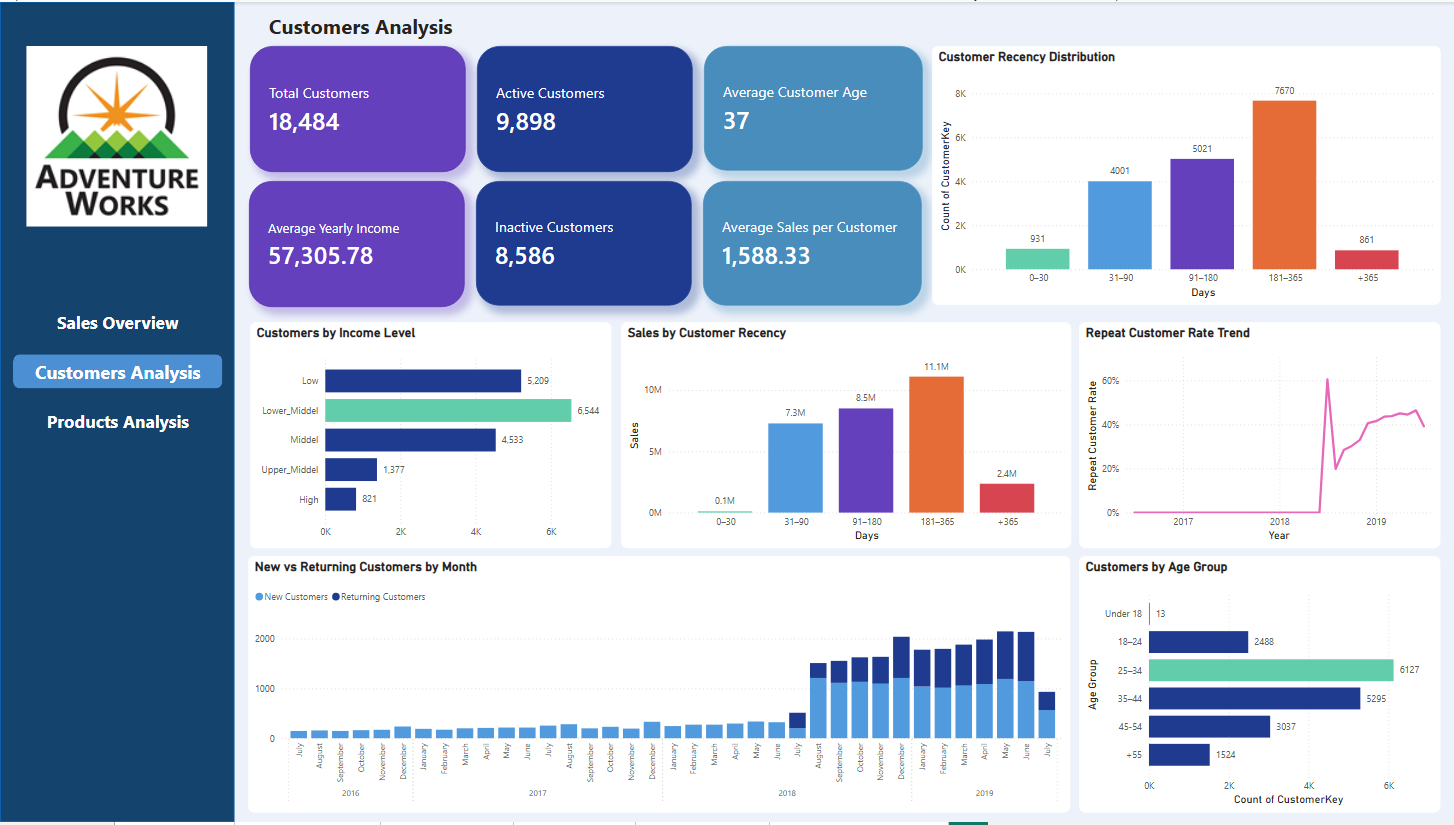

Layout of this report page (visuals, bound fields, positions):
{"tool":"powerbi","page":{"name":"Customers Analysis","canvas":[1920,1080],"ordinal":1},"visuals":[{"type":"cardVisual","fields":{"Data":["Table Measures.Average Yearly Income"]},"box":[327.9,235.4,284.4,166.3],"z":0},{"type":"cardVisual","fields":{"Data":["Table Measures.# Unique Customers"]},"box":[329.4,57.9,283.7,165.9],"z":1000},{"type":"shape","box":[0,0,308.8,1080],"z":2000},{"type":"textbox","box":[349.2,7.8,305.8,51.2],"z":3000},{"type":"cardVisual","fields":{"Data":["Table Measures.# Active Customers"]},"box":[628.1,57.9,283.7,165.9],"z":4000},{"type":"cardVisual","fields":{"Data":["Table Measures.# Inactive Customers"]},"box":[627.5,235.4,283.7,164],"z":5000},{"type":"cardVisual","fields":{"Data":["Table Measures.Ave Customer Age"]},"box":[926.7,57.9,287.5,164],"z":6000},{"type":"cardVisual","fields":{"Data":["Table Measures.$ Average Sales per Customer"]},"box":[926.4,235.4,287.5,164],"z":7000},{"type":"barChart","title":"Customers by Income Level","fields":{"Category":["Customers Lookup.Income Level"],"Y":["Table Measures.# Total Customers"]},"box":[328.8,420.9,476.2,298],"z":8000},{"type":"pageNavigator","box":[16.9,399.4,276.5,176.7],"z":9000},{"type":"image","box":[15.4,58.4,276.5,238.1],"z":10000},{"type":"clusteredColumnChart","title":"Customer Recency Distribution","fields":{"Category":["Customers Lookup.Recency Bucket"],"Y":["Count(Customers Lookup.CustomerKey)"]},"box":[1227.5,58.4,669.8,341.1],"z":11000},{"type":"barChart","title":"Customers by Age Group","fields":{"Category":["Customers Lookup.Age Group"],"Y":["Count(Customers Lookup.CustomerKey)"]},"box":[1421.1,729.7,476.2,338],"z":12000},{"type":"lineChart","title":"Repeat Customer Rate Trend","fields":{"Category":["Date Lookup.Date.Variation.Date Hierarchy.Year","Date Lookup.Date.Variation.Date Hierarchy.Month"],"Y":["Table Measures.Repeat Customer Rate"]},"box":[1421.1,420.9,476.2,298],"z":13000},{"type":"columnChart","title":"New vs Returning Customers by Month","fields":{"Category":["Date Lookup.Date.Variation.Date Hierarchy.Year","Date Lookup.Date.Variation.Date Hierarchy.Month"],"Y":["Table Measures.New Customers","Table Measures.Returning Customers"]},"box":[327.1,730.1,1083.1,338],"z":14000},{"type":"clusteredColumnChart","title":"Sales by Customer Recency","fields":{"Category":["Customers Lookup.Recency Bucket"],"Y":["Table Measures.$ Total Sales"]},"box":[817.3,420.9,593,298],"z":15000}]}

Visuals, with their boxes on the page's 1920x1080 design canvas (x1, y1, x2, y2). These are canvas units, not pixel positions in the 1454x825 screenshot, which may show the page scaled, cropped or inside an application window:
cardVisual - Table Measures.Average Yearly Income: 328 235 612 402
cardVisual - Table Measures.# Unique Customers: 329 58 613 224
shape: 0 0 309 1080
textbox: 349 8 655 59
cardVisual - Table Measures.# Active Customers: 628 58 912 224
cardVisual - Table Measures.# Inactive Customers: 628 235 911 399
cardVisual - Table Measures.Ave Customer Age: 927 58 1214 222
cardVisual - Table Measures.$ Average Sales per Customer: 926 235 1214 399
"Customers by Income Level" barChart: 329 421 805 719
pageNavigator: 17 399 293 576
image: 15 58 292 296
"Customer Recency Distribution" clusteredColumnChart: 1228 58 1897 400
"Customers by Age Group" barChart: 1421 730 1897 1068
"Repeat Customer Rate Trend" lineChart: 1421 421 1897 719
"New vs Returning Customers by Month" columnChart: 327 730 1410 1068
"Sales by Customer Recency" clusteredColumnChart: 817 421 1410 719
